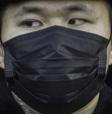with_mask: (1, 2, 112, 114)
